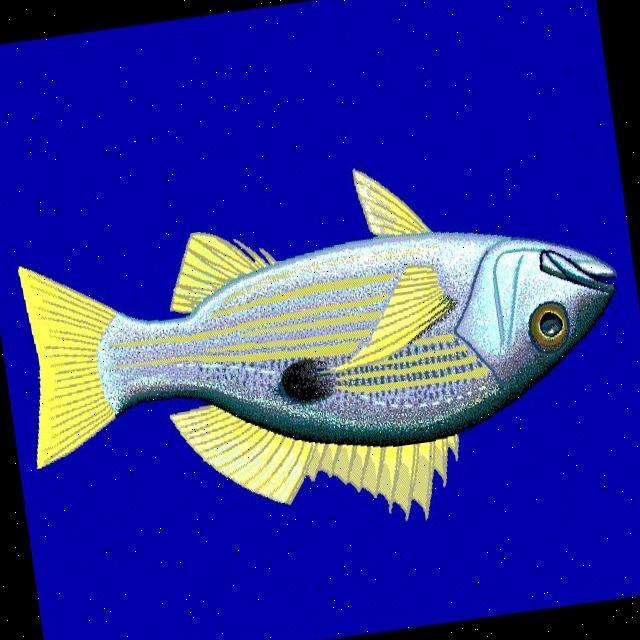ikan: (2, 135, 640, 574)
